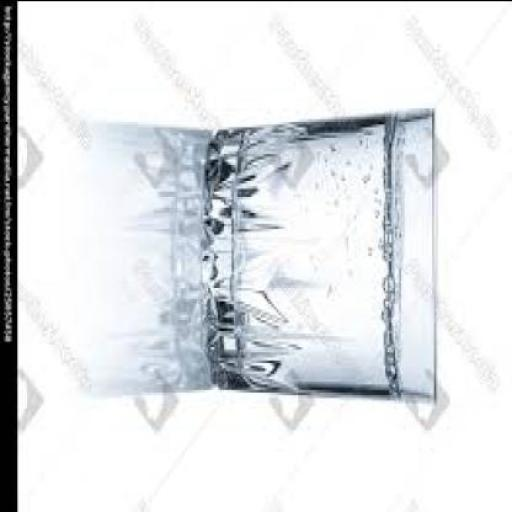glass: (204, 107, 436, 396)
